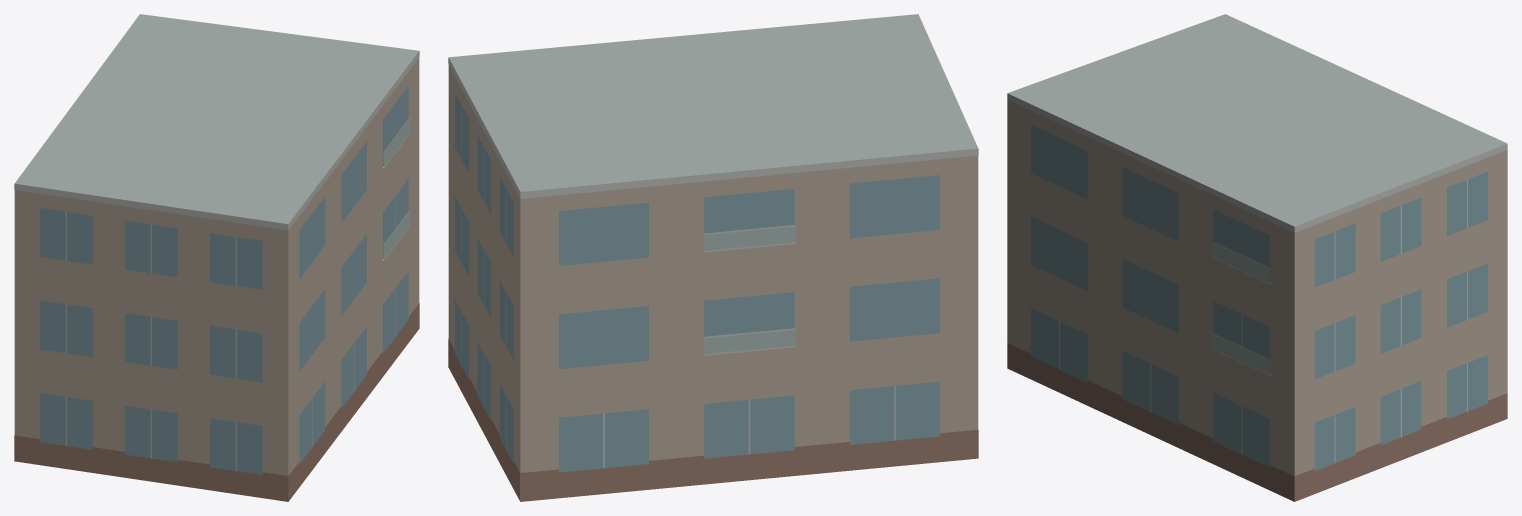
The model's file is survey-upis-32840205.glb.
The picture shows the model from 3 angles, left to right: view 1: azimuth 30°, elevation 25°; view 2: azimuth 150°, elevation 25°; view 3: azimuth 270°, elevation 25°; orthographic projection. The views are drawn at different scales.
Visible parts, largest first — view 1: survey-upis-32840205.tmp; view 2: survey-upis-32840205.tmp; view 3: survey-upis-32840205.tmp.
Part boxes in pixels (x1,y1,x2,y2): survey-upis-32840205.tmp: (14, 14, 419, 501); survey-upis-32840205.tmp: (448, 14, 978, 501); survey-upis-32840205.tmp: (1007, 14, 1507, 501).
Size of the model in its own units: 17.96 by 10.83 by 17.86.
